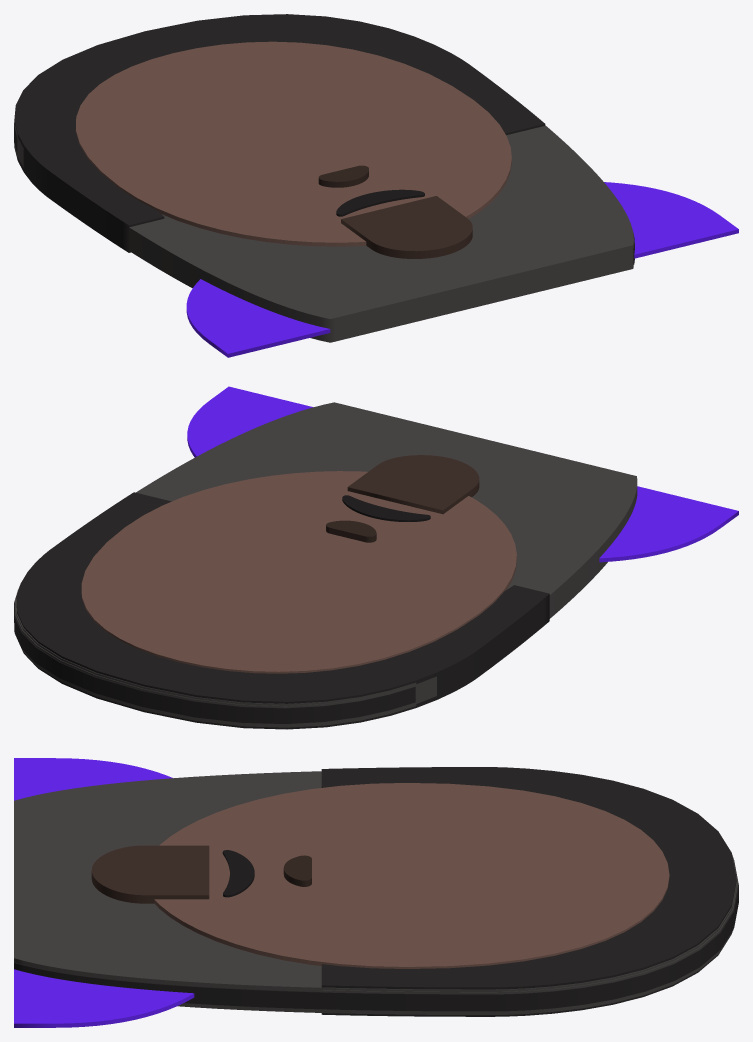
File: emoji_u1f64d_1f3ff_200d_2640.glb
3 renders of one model, top to bottom at view 1: azimuth 30°, elevation 25°; view 2: azimuth 150°, elevation 25°; view 3: azimuth 270°, elevation 25°, orthographic. The views are drawn at different scales.
Visible parts, largest first — view 1: emoji_u1f64d_1f3ff_200d_2640; view 2: emoji_u1f64d_1f3ff_200d_2640; view 3: emoji_u1f64d_1f3ff_200d_2640.
Part boxes in pixels (x1,y1,x2,y2): emoji_u1f64d_1f3ff_200d_2640: [14, 14, 738, 357]; emoji_u1f64d_1f3ff_200d_2640: [14, 386, 738, 729]; emoji_u1f64d_1f3ff_200d_2640: [14, 758, 738, 1027].
Size of the model in its own units: 0.0271 by 0.0022 by 0.0313.
